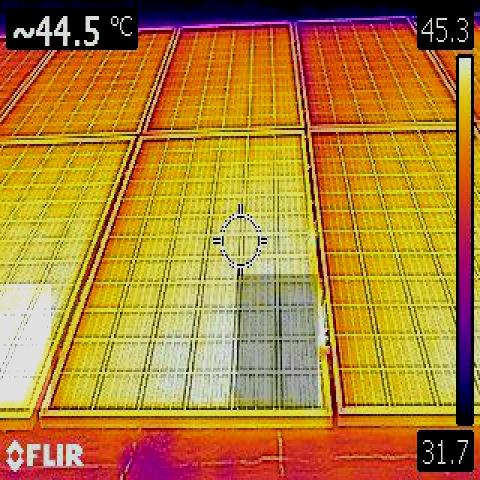fault: (237, 274, 318, 408), (0, 284, 51, 408)
